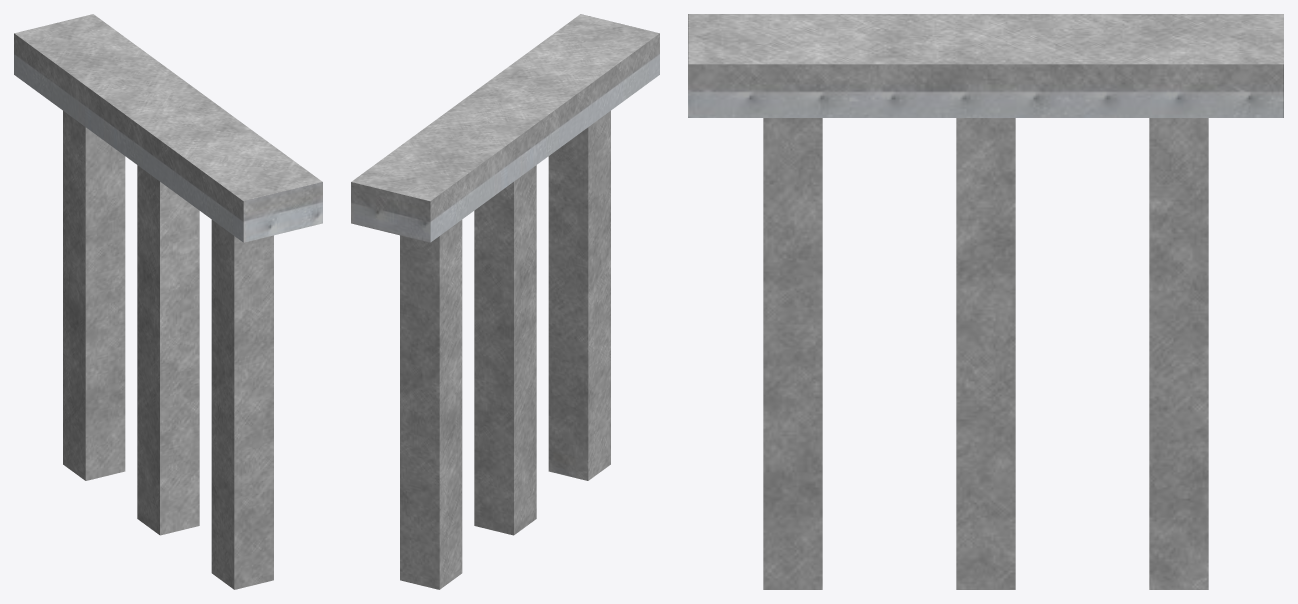
File: rail1.fbx
3 views of the same model, side by side, from view 1: azimuth 30°, elevation 25°; view 2: azimuth 150°, elevation 25°; view 3: azimuth 270°, elevation 25° (orthographic). The views are drawn at different scales.
Parts seen in each view (by area): view 1: Rail1; view 2: Rail1; view 3: Rail1.
Part boxes in pixels (x1,y1,x2,y2): Rail1: (14, 14, 322, 589); Rail1: (351, 14, 659, 589); Rail1: (688, 14, 1283, 589).
Bounding box in the file's own units: 20 × 100 × 100.
1 material, 1 textured.
